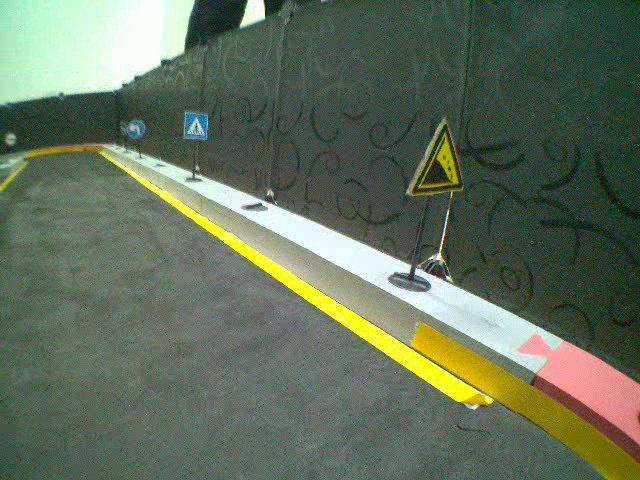crossing: (184, 111, 208, 140)
fast: (409, 114, 470, 194)
turn: (126, 118, 146, 140)
